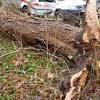Downstairs: (1, 6, 100, 69)
